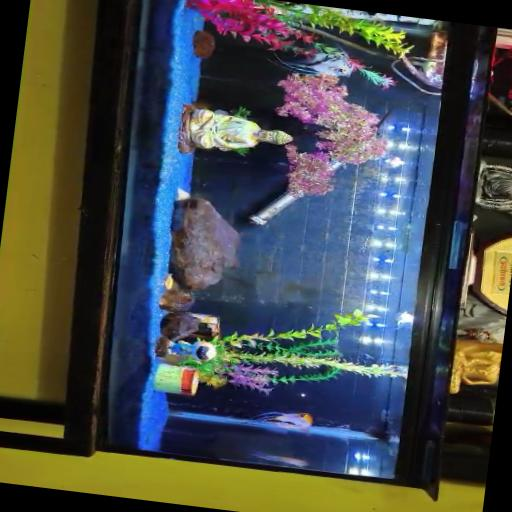Fish: (274, 52, 353, 76), (243, 411, 312, 430), (251, 451, 307, 466), (393, 310, 413, 328)
